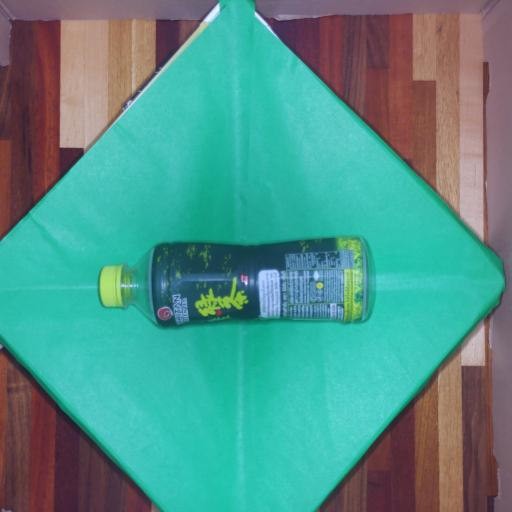bottle: (97, 237, 375, 333)
